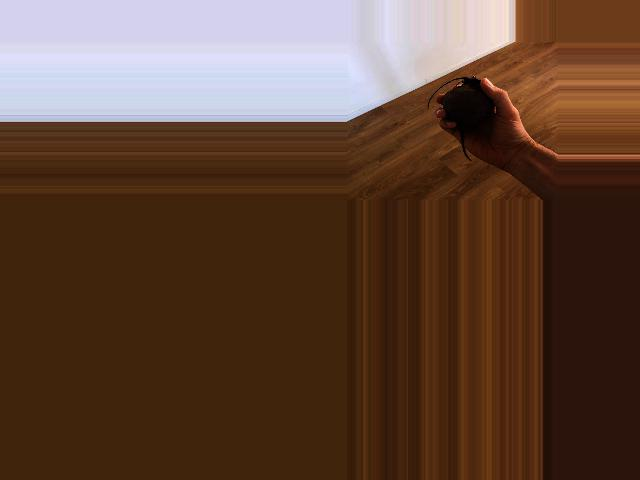beet: (426, 76, 493, 160)
